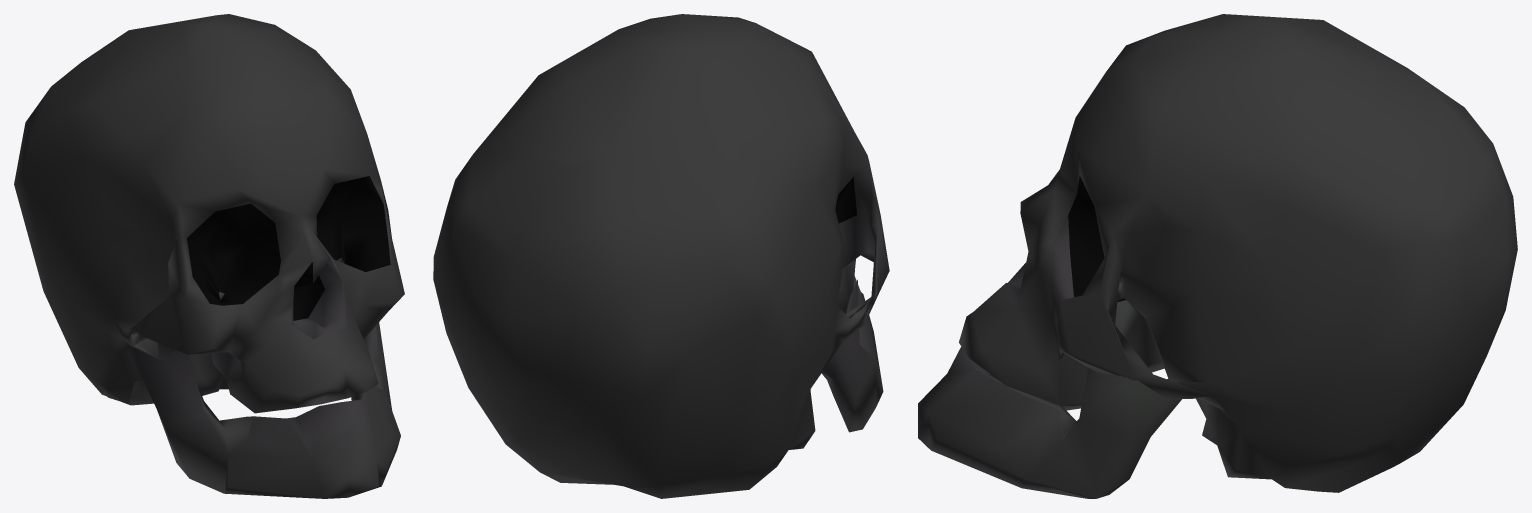
Rendered from 01e44314-1b86-4b9e-aa4b-6cde9e48aa9f.glb.
The picture shows the model from 3 angles, left to right: view 1: azimuth 30°, elevation 25°; view 2: azimuth 150°, elevation 25°; view 3: azimuth 270°, elevation 25°; orthographic projection. The views are drawn at different scales.
Parts seen in each view (by area): view 1: Skull03; view 2: Skull03; view 3: Skull03.
Part boxes in pixels (<box>): Skull03: <box>14,14,404,498</box>; Skull03: <box>433,14,889,498</box>; Skull03: <box>918,14,1517,498</box>.
Size of what is drawn, in the model's own units: 0.2005 by 0.2517 by 0.3132.
Materials: 1 (1 with a texture image).
